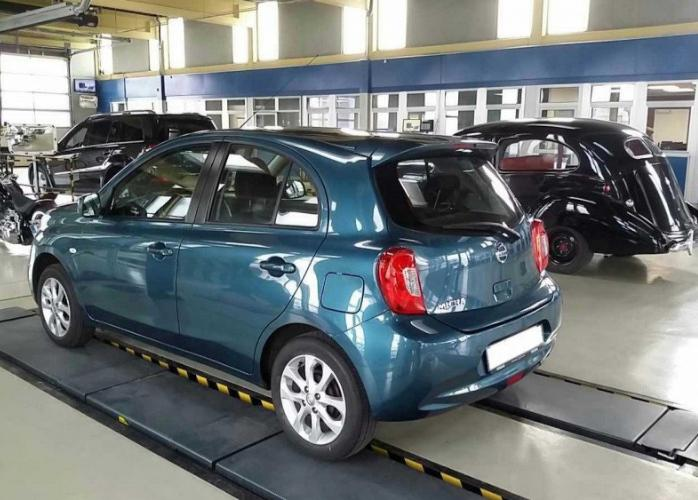Dent: (284, 307, 363, 369)
Scratch: (311, 325, 335, 340)
